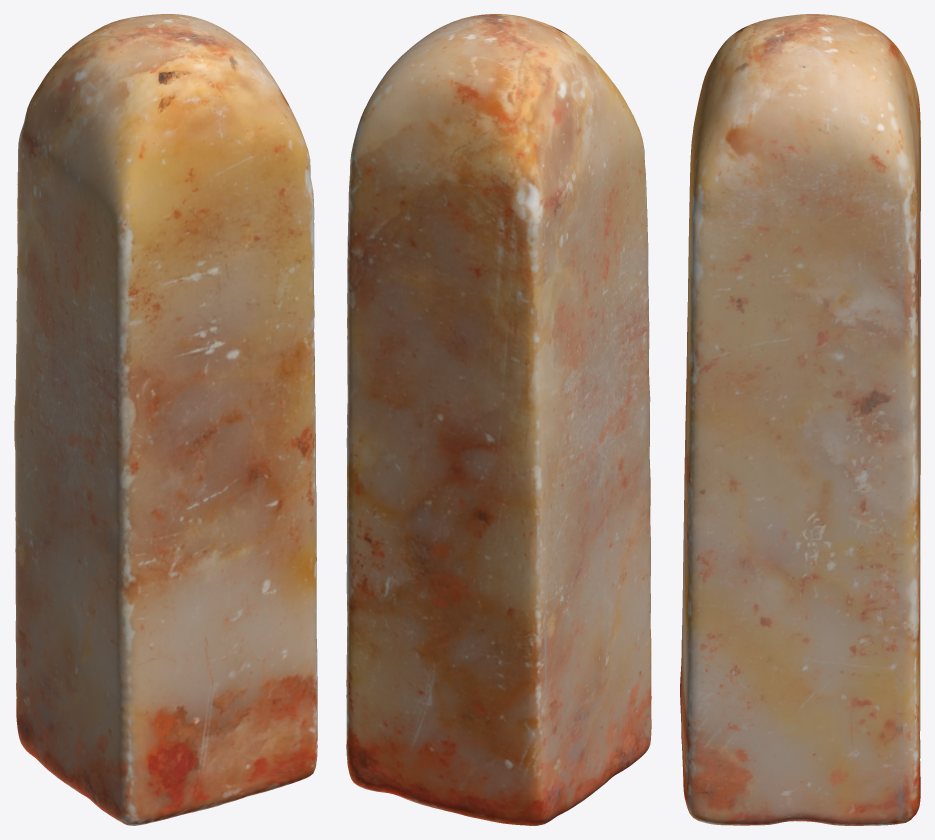
The picture shows the model from 3 angles, left to right: view 1: azimuth 30°, elevation 25°; view 2: azimuth 150°, elevation 25°; view 3: azimuth 270°, elevation 25°; orthographic projection. The views are drawn at different scales.
Parts seen in each view (by area): view 1: lowpoly.001; view 2: lowpoly.001; view 3: lowpoly.001.
Part boxes in pixels (left/top/right/bottom): lowpoly.001: left=14, top=14, right=317, bottom=825; lowpoly.001: left=346, top=14, right=651, bottom=825; lowpoly.001: left=680, top=14, right=920, bottom=825.
Bounding box in the file's own units: 3.9 × 13.65 × 3.97.
Materials: 1 (1 with a texture image).
